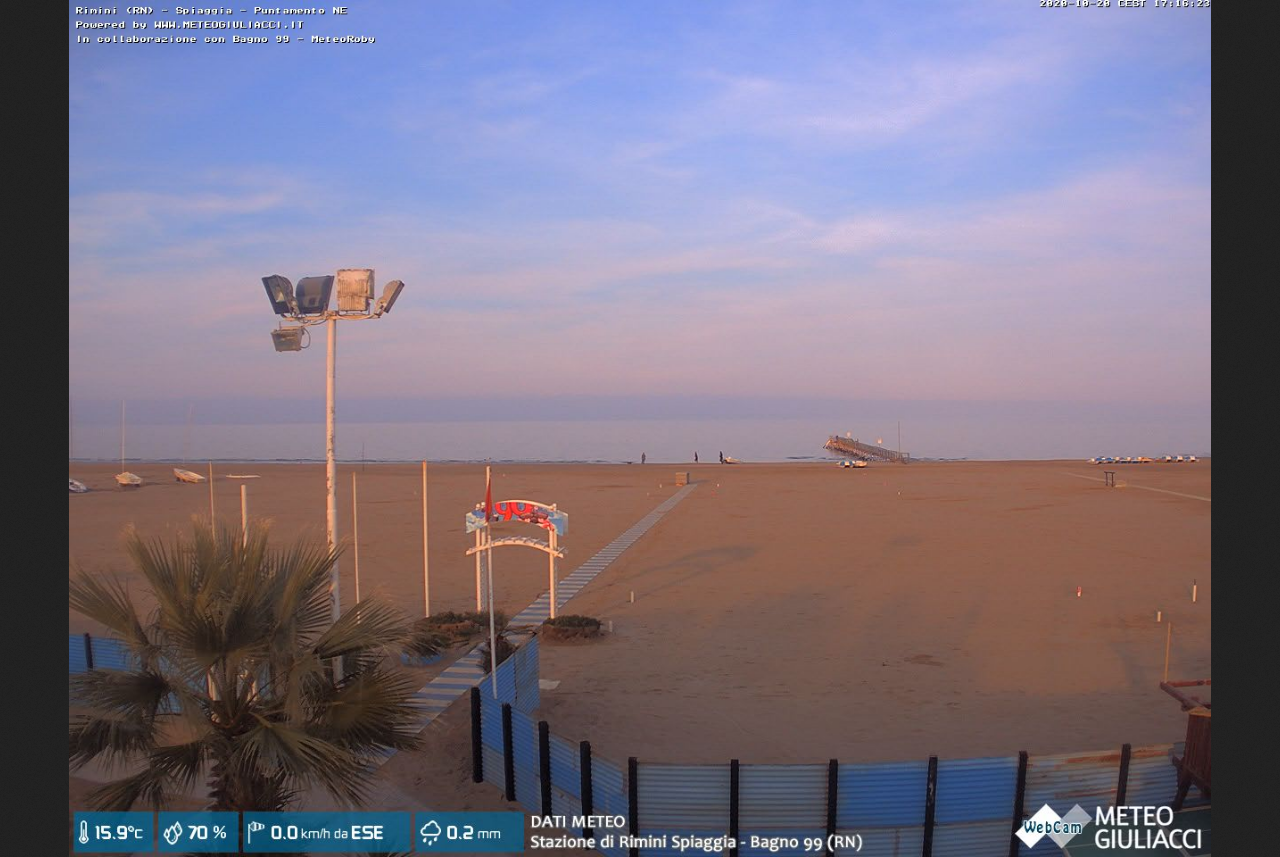no: (482, 469, 494, 525)
